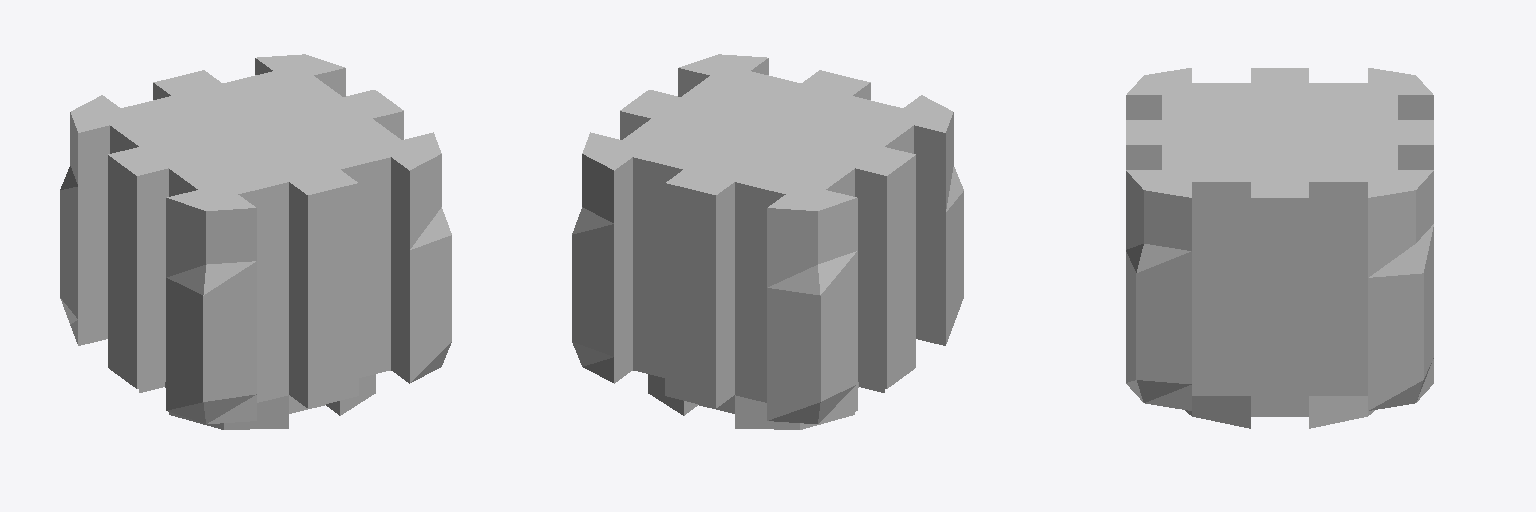
Rendered from MagmaticSmeltery.obj.
3 views of the same model, side by side, from view 1: azimuth 30°, elevation 25°; view 2: azimuth 150°, elevation 25°; view 3: azimuth 270°, elevation 25° (orthographic).
Visible parts, largest first — view 1: pCube1; view 2: pCube1; view 3: pCube1.
Part boxes in pixels (x1,y1,x2,y2): pCube1: (60, 54, 451, 429); pCube1: (572, 54, 963, 429); pCube1: (1126, 68, 1433, 428).
Size of the model in its own units: 1.05 by 0.925 by 1.05.